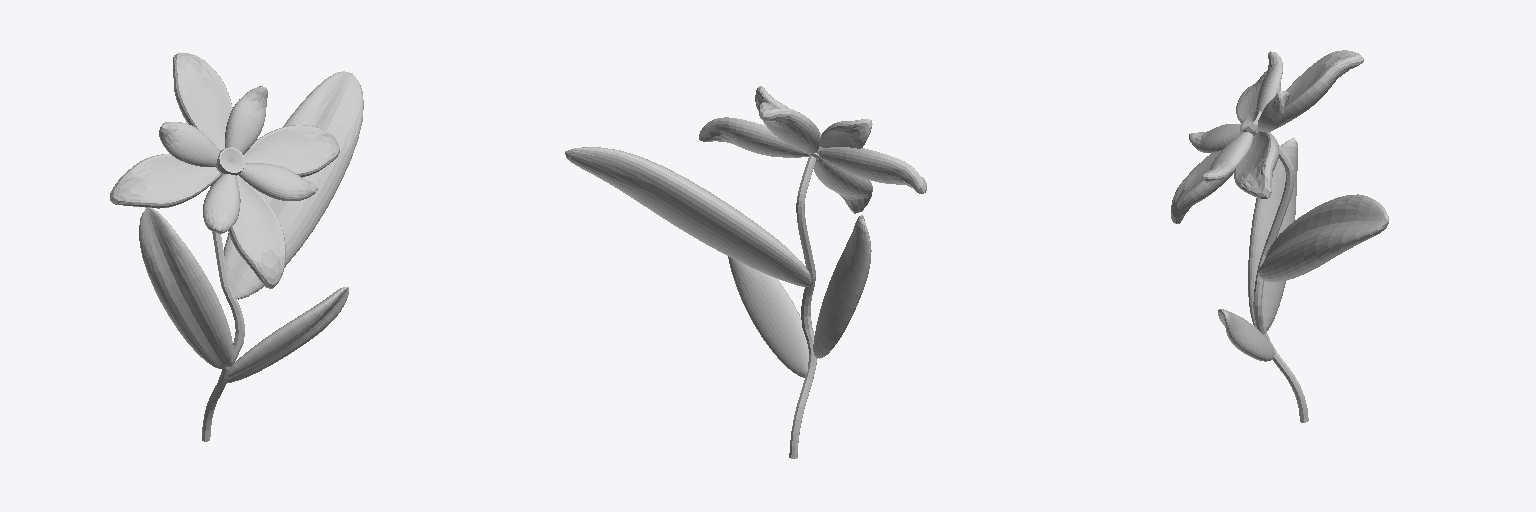
The model's file is toonflower4.obj.
3 renders of one model, left to right at view 1: azimuth 30°, elevation 25°; view 2: azimuth 150°, elevation 25°; view 3: azimuth 270°, elevation 25°, orthographic.
Parts seen in each view (by area): view 1: toonyflower; view 2: toonyflower; view 3: toonyflower.
Boxes of the visible parts, <box> form: toonyflower: <box>110,53,363,441</box>; toonyflower: <box>565,86,926,458</box>; toonyflower: <box>1171,50,1388,422</box>.
Size of the model in its own units: 0.6305 by 0.7282 by 0.392.